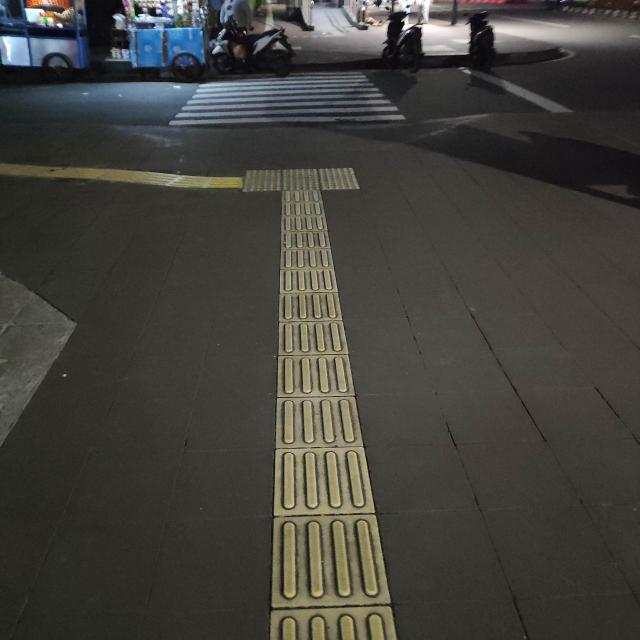kiri: (160, 150, 344, 217)
